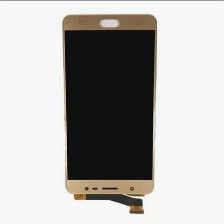phone: (59, 12, 161, 196)
